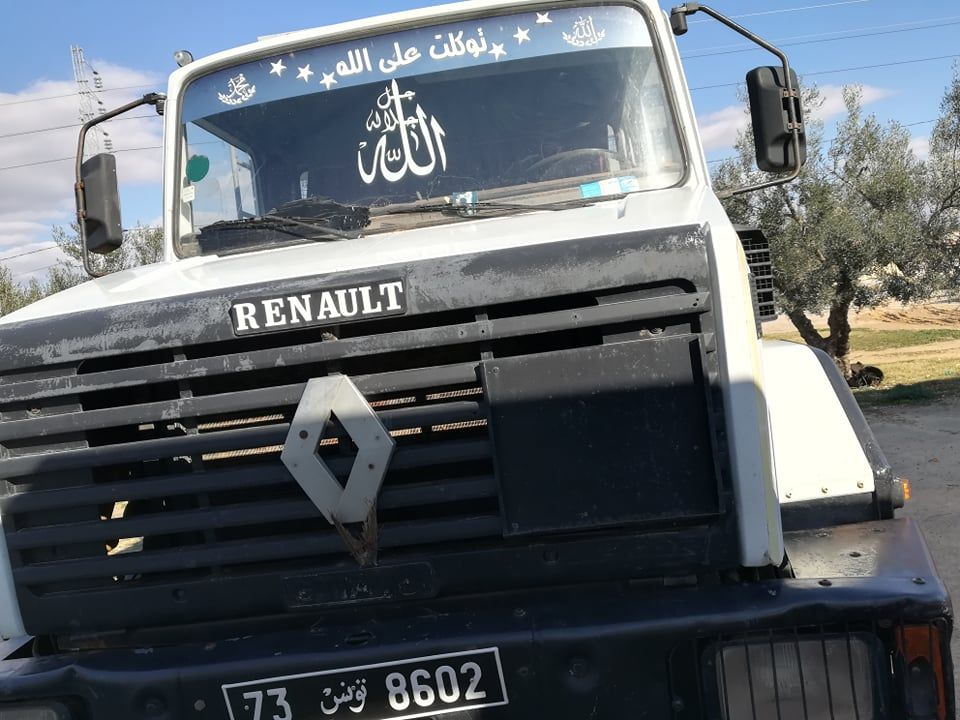LP: (217, 645, 510, 720)
